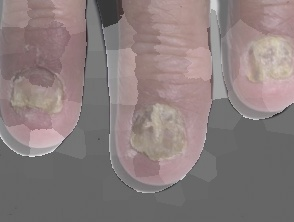Nail_psoriasis: (108, 74, 223, 187), (0, 29, 101, 148), (235, 20, 294, 95)
